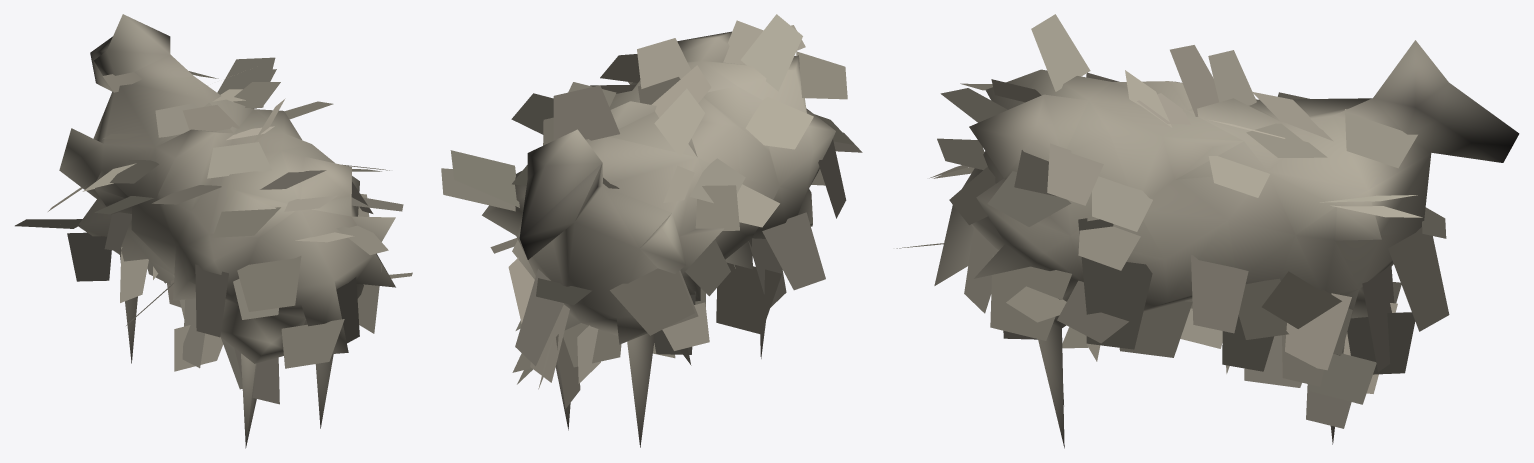
The model's file is animale_pecora_1_leggero.glb.
The picture shows the model from 3 angles, left to right: view 1: azimuth 30°, elevation 25°; view 2: azimuth 150°, elevation 25°; view 3: azimuth 270°, elevation 25°; orthographic projection. The views are drawn at different scales.
Parts seen in each view (by area): view 1: animale_pecora_1_leggero; view 2: animale_pecora_1_leggero; view 3: animale_pecora_1_leggero.
Part boxes in pixels (x1=…): animale_pecora_1_leggero: x1=15, y1=14, x2=412, y2=448; animale_pecora_1_leggero: x1=441, y1=14, x2=862, y2=447; animale_pecora_1_leggero: x1=896, y1=14, x2=1519, y2=448.
Size of the model in its own units: 0.8411 by 0.9987 by 1.49.
